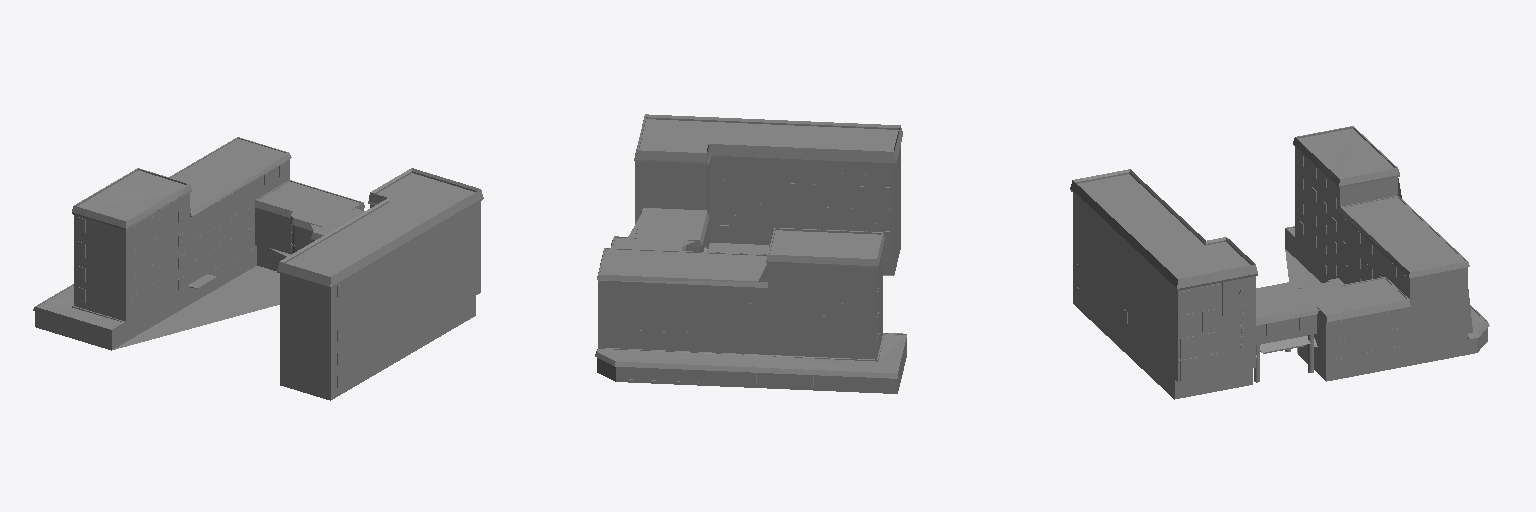
File: building.obj
The picture shows the model from 3 angles: view 1: azimuth 30°, elevation 25°; view 2: azimuth 150°, elevation 25°; view 3: azimuth 270°, elevation 25°; orthographic projection.
Parts seen in each view (by area): view 1: Building0; view 2: Building0; view 3: Building0.
Boxes of the visible parts, <box> form: Building0: <box>33,137,483,400</box>; Building0: <box>595,114,906,393</box>; Building0: <box>1070,126,1489,399</box>.
Bounding box in the file's own units: 54.64 × 18.31 × 56.32.